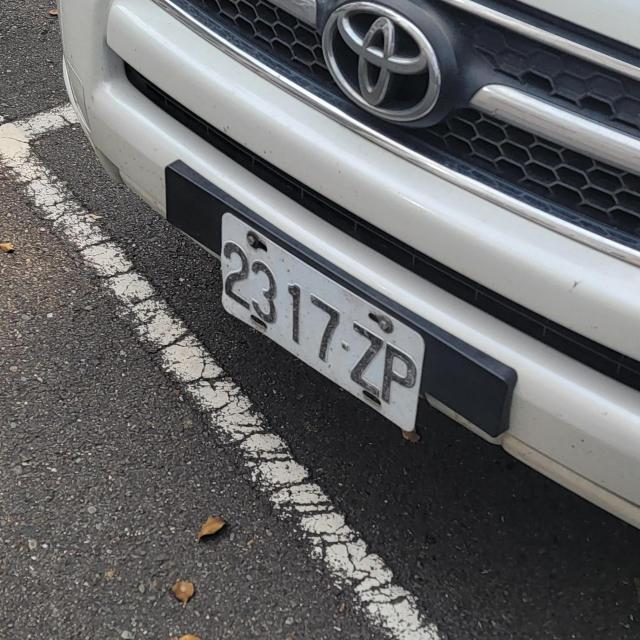W: (212, 222, 440, 426)
